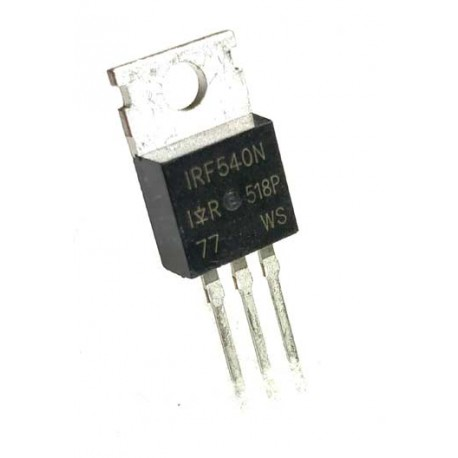MOSFET: (102, 23, 338, 415)
